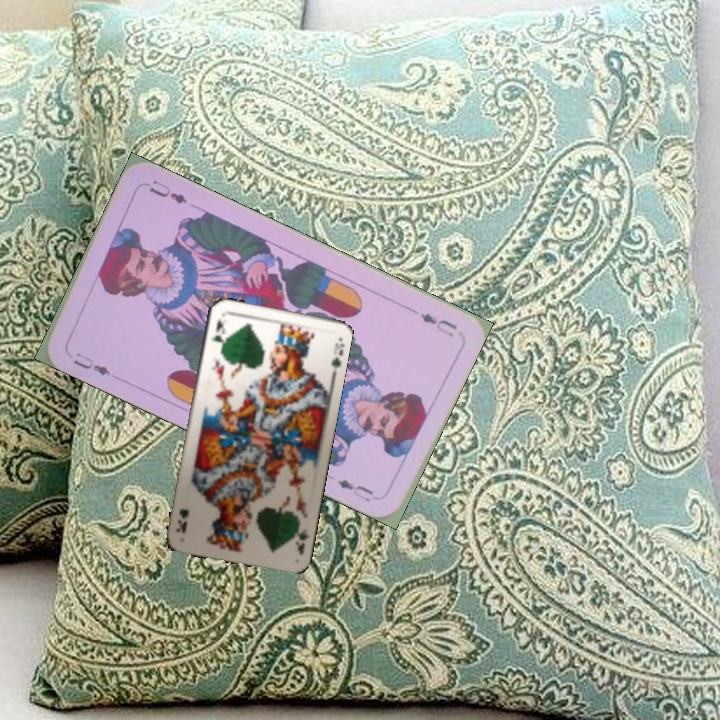EU: (69, 348, 113, 379), (416, 308, 460, 339)
GK: (290, 517, 311, 557), (207, 314, 226, 346)
